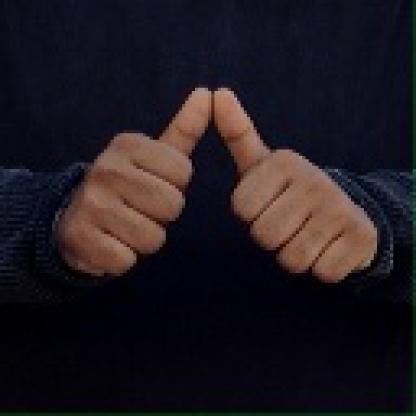A: (69, 71, 375, 276)
